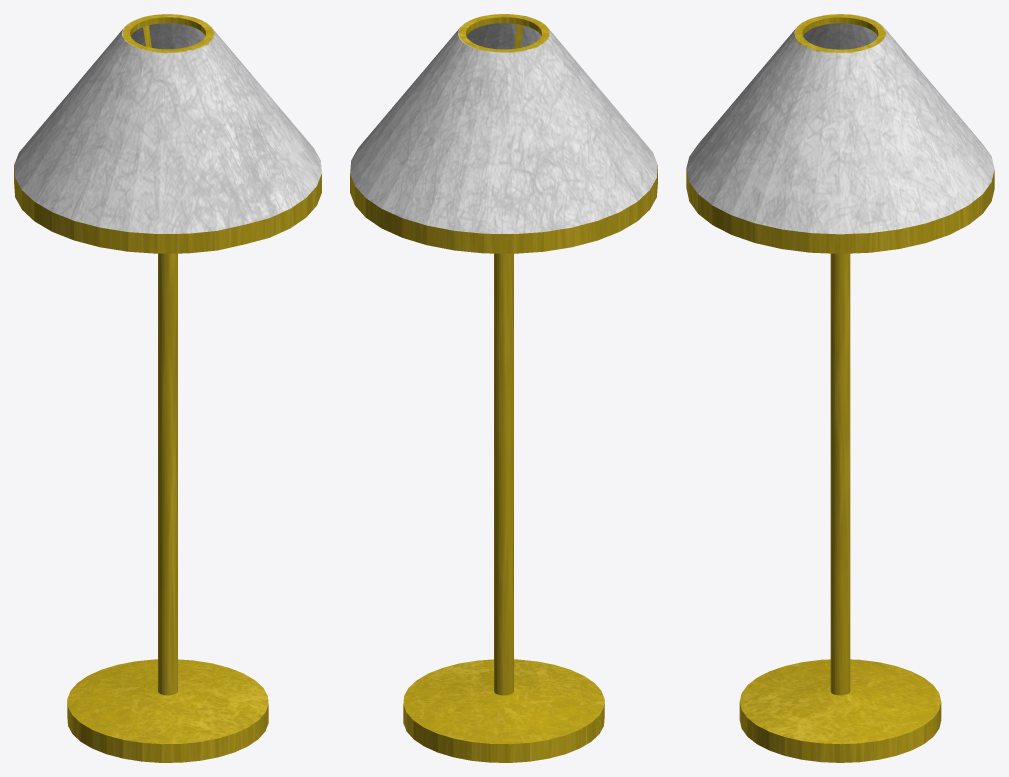
The model's file is Stehlampe.fbx.
The picture shows the model from 3 angles, left to right: view 1: azimuth 30°, elevation 25°; view 2: azimuth 150°, elevation 25°; view 3: azimuth 270°, elevation 25°; orthographic projection.
Visible parts, largest first — view 1: Circle; view 2: Circle; view 3: Circle.
Boxes of the visible parts, bbox=[...] form: Circle: bbox=[14, 14, 321, 762]; Circle: bbox=[350, 14, 657, 762]; Circle: bbox=[686, 14, 994, 762].
Bounding box in the file's own units: 76.47 × 188 × 76.47.
